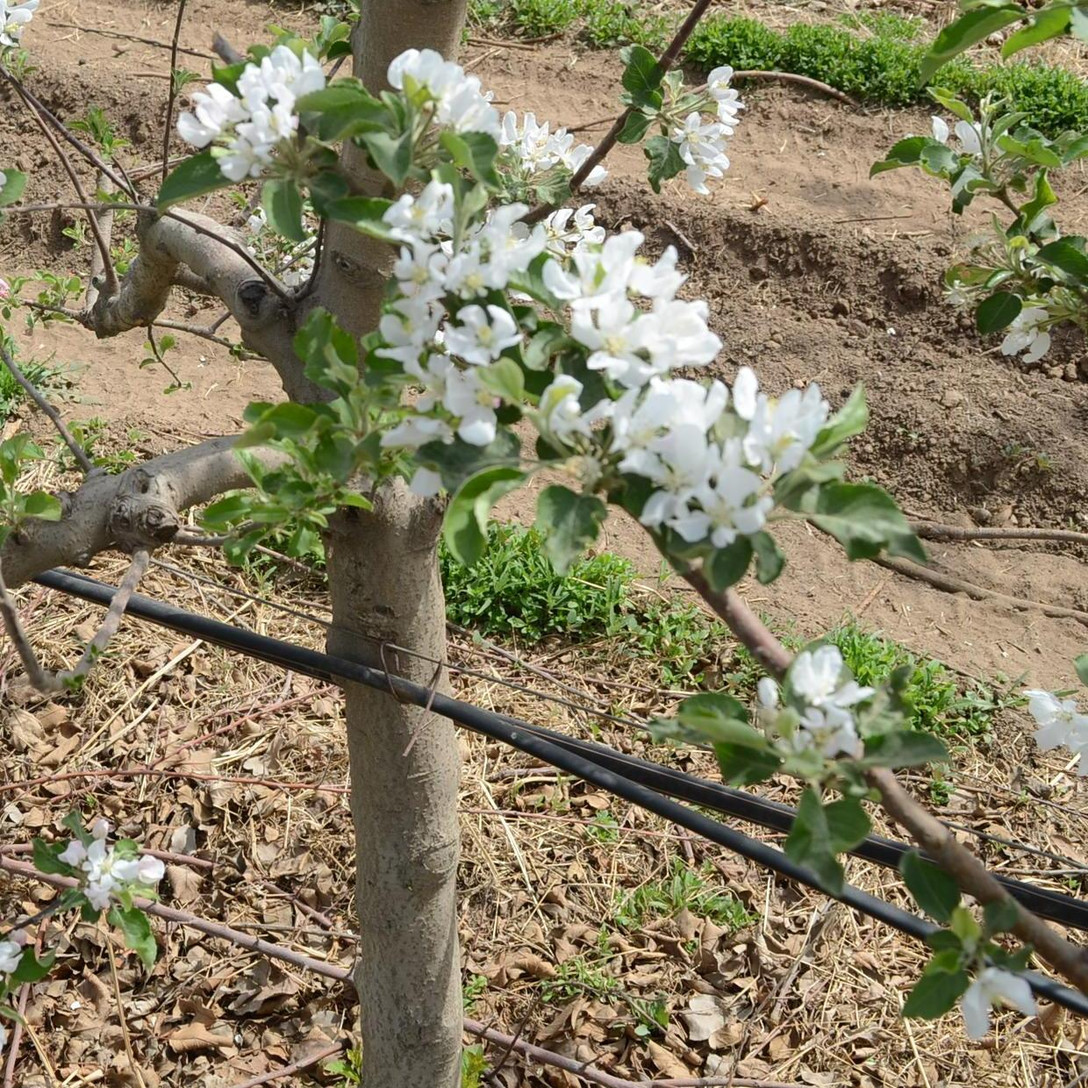apple_flower: (376, 177, 722, 447), (612, 369, 832, 547), (389, 47, 593, 170), (177, 44, 326, 179), (56, 812, 164, 963), (760, 644, 878, 759), (675, 63, 746, 192), (964, 967, 1041, 1041), (1027, 689, 1088, 777), (0, 0, 38, 54)
